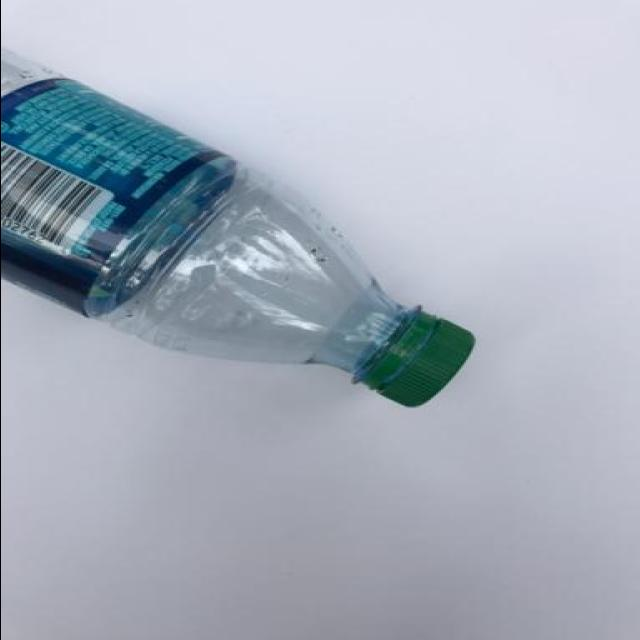litter: (1, 44, 482, 410)
